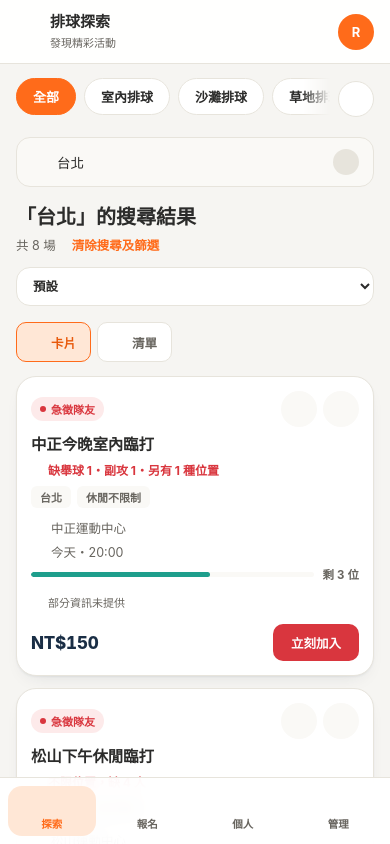
Test: Explore — mobile search box always reachable › clearing the search from the compact bar returns to the browsing-home Hero
The image size is (390, 844).
Click the button named "清除搜尋" at x=346, y=162, box [333,149,359,175]
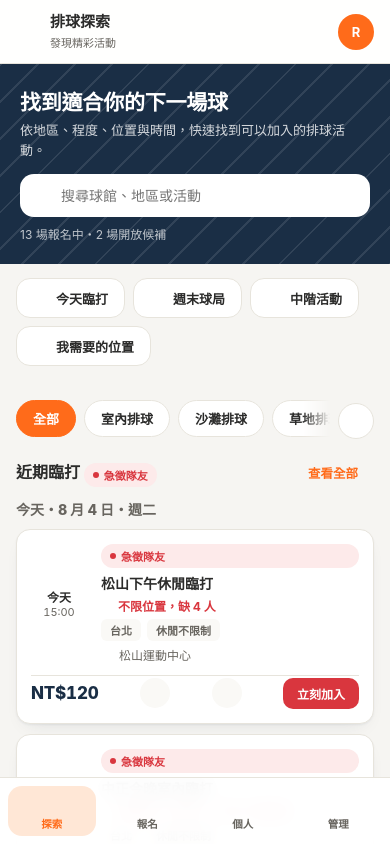
Now the heading "找到適合你的下一場球" is shown, box [20,90,228,115]
